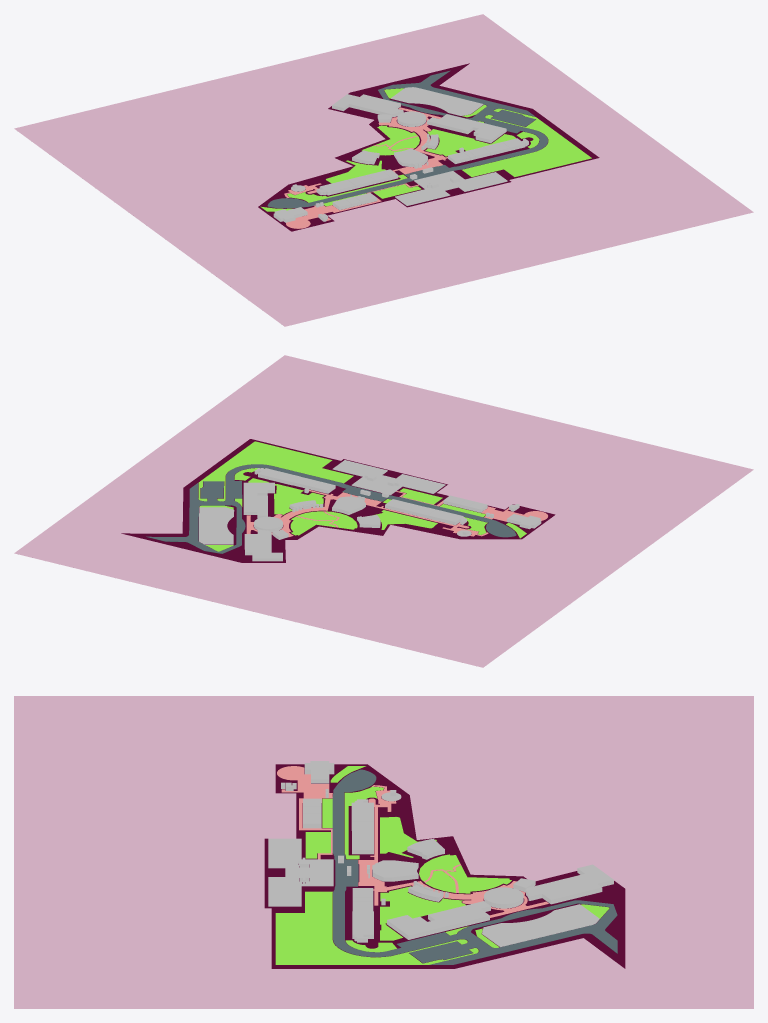
Rendered from njc-l1-v6-8-5.glb.
3 renders of one model, top to bottom at view 1: azimuth 30°, elevation 25°; view 2: azimuth 150°, elevation 25°; view 3: azimuth 270°, elevation 25°, orthographic. The views are drawn at different scales.
Parts seen in each view (by area): view 1: Grey, Grass, Base, None, Drive, Foot, Canteen, Parade Square; view 2: Grey, Base, Grass, None, Drive, Foot, Canteen, Parade Square; view 3: Grey, Grass, Base, None, Drive, Foot, Canteen, Parade Square, Object, DS3.
Part boxes in pixels (x1=…): Grey: x1=14, y1=14, x2=753, y2=326; Grass: x1=260, y1=88, x2=591, y2=211; Base: x1=258, y1=63, x2=599, y2=231; None: x1=332, y1=94, x2=528, y2=209; Drive: x1=267, y1=70, x2=547, y2=208; Foot: x1=284, y1=107, x2=447, y2=228; Canteen: x1=395, y1=171, x2=507, y2=205; Parade Square: x1=391, y1=87, x2=483, y2=115; Grey: x1=14, y1=355, x2=753, y2=667; Base: x1=121, y1=439, x2=555, y2=562; Grass: x1=198, y1=441, x2=526, y2=551; None: x1=243, y1=468, x2=487, y2=561; Drive: x1=146, y1=464, x2=516, y2=553; Foot: x1=246, y1=489, x2=547, y2=537; Canteen: x1=332, y1=460, x2=445, y2=494; Parade Square: x1=199, y1=507, x2=234, y2=544; Grey: x1=14, y1=696, x2=753, y2=1008; Grass: x1=275, y1=766, x2=609, y2=964; Base: x1=264, y1=764, x2=625, y2=968; None: x1=303, y1=798, x2=613, y2=942; Drive: x1=332, y1=769, x2=617, y2=964; Foot: x1=277, y1=766, x2=548, y2=917; Canteen: x1=268, y1=838, x2=333, y2=906; Parade Square: x1=482, y1=904, x2=599, y2=947; Object: x1=484, y1=887, x2=523, y2=908; DS3: x1=304, y1=761, x2=334, y2=783.
Size of the model in its own units: 30 by 0.2 by 30.
